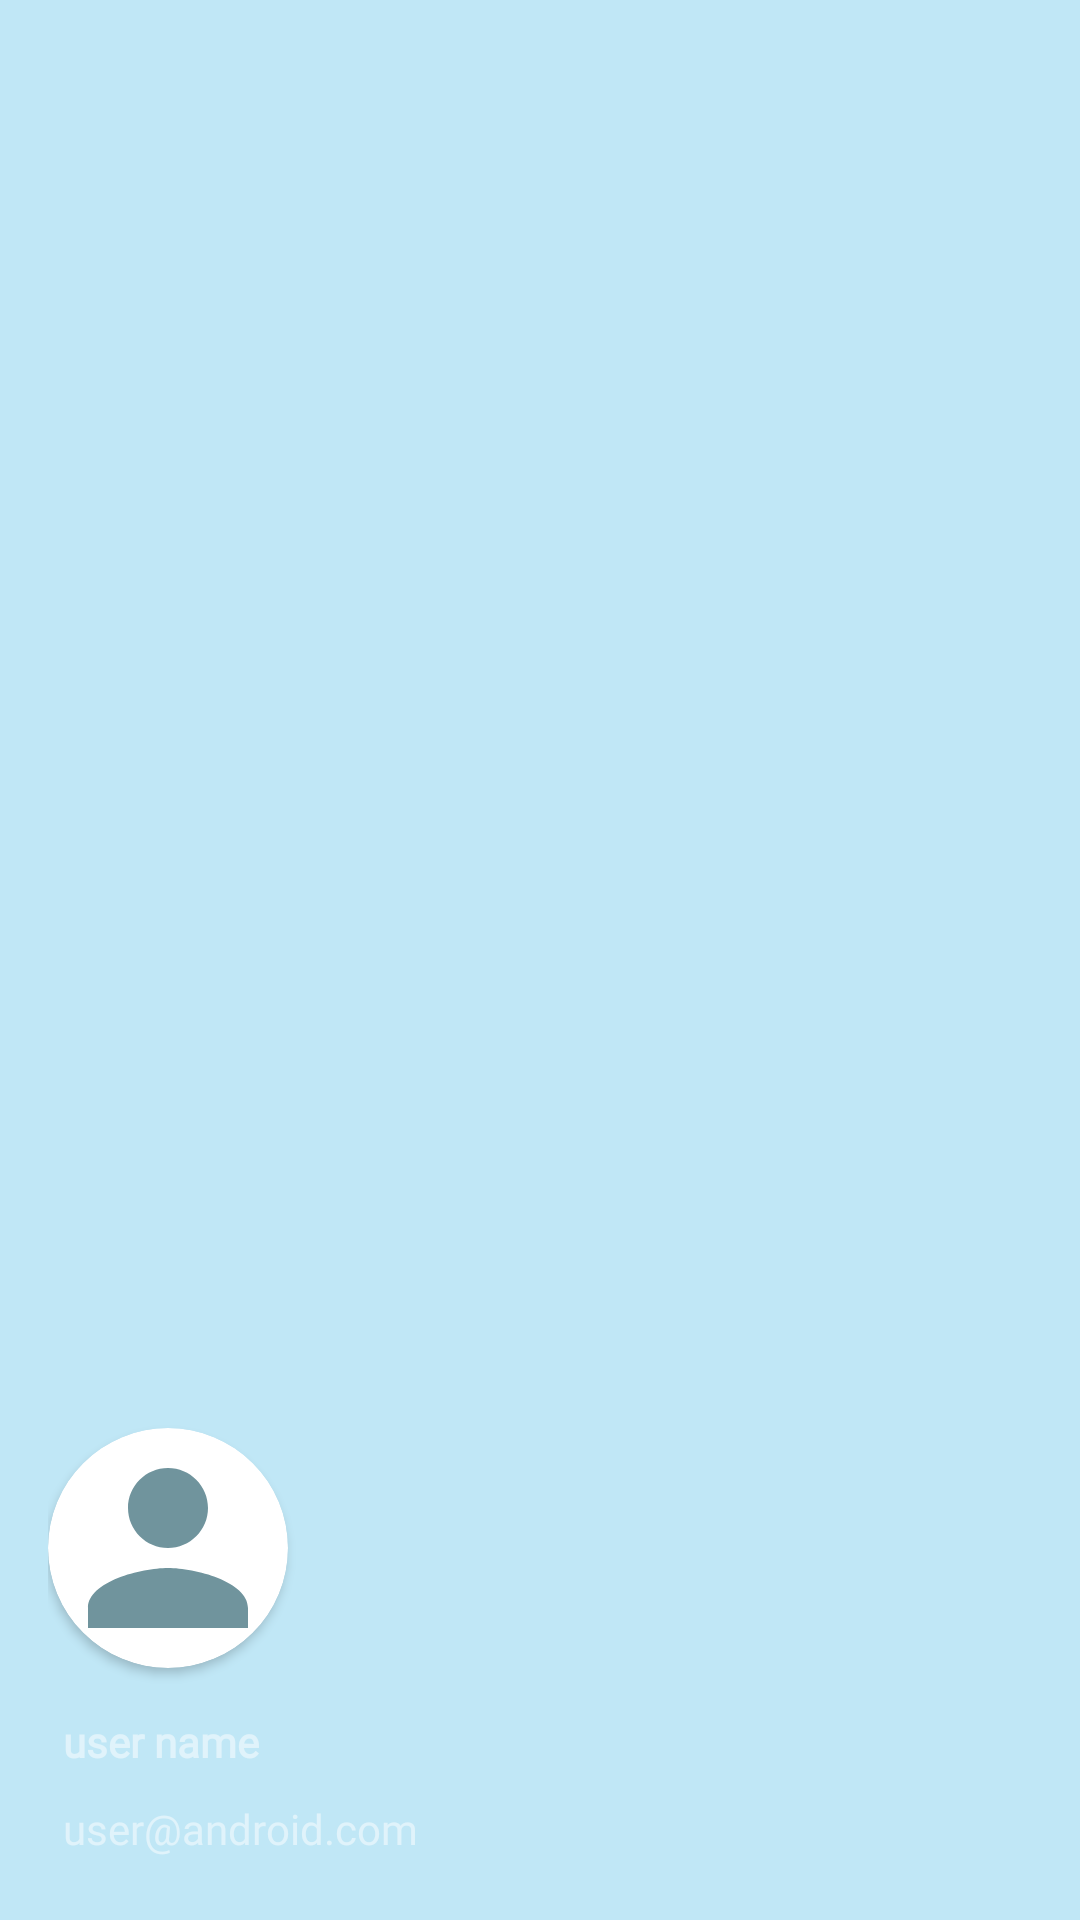

Icons on this 1080px×1920px Android screen, each with its box as (x1, y1, x2, y2):
person: (48, 1428, 288, 1668)
